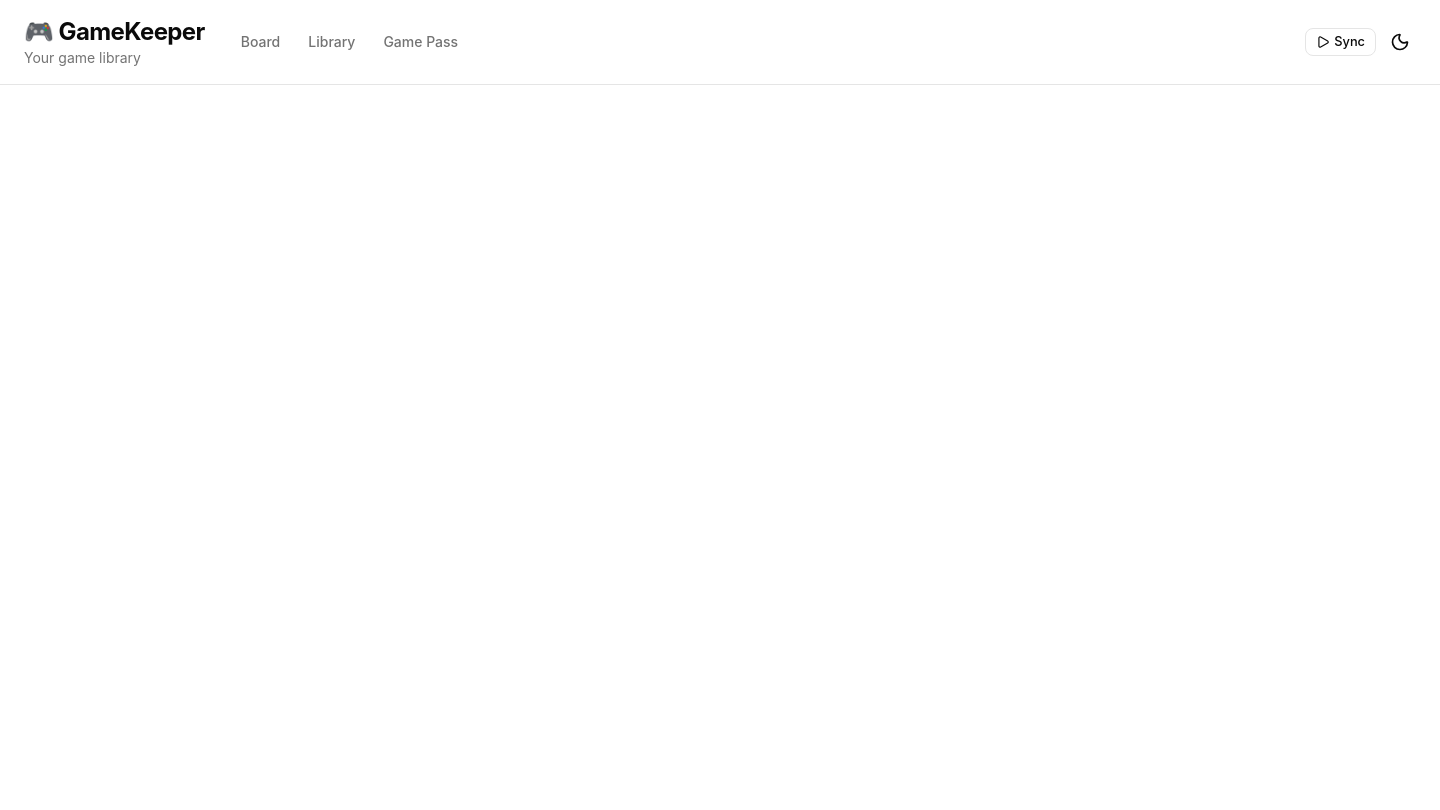
SyncPanel › shows "Sync already running" when the server responds 409
Click the button "Sync" at (1341,42), box [1305,28,1376,56]
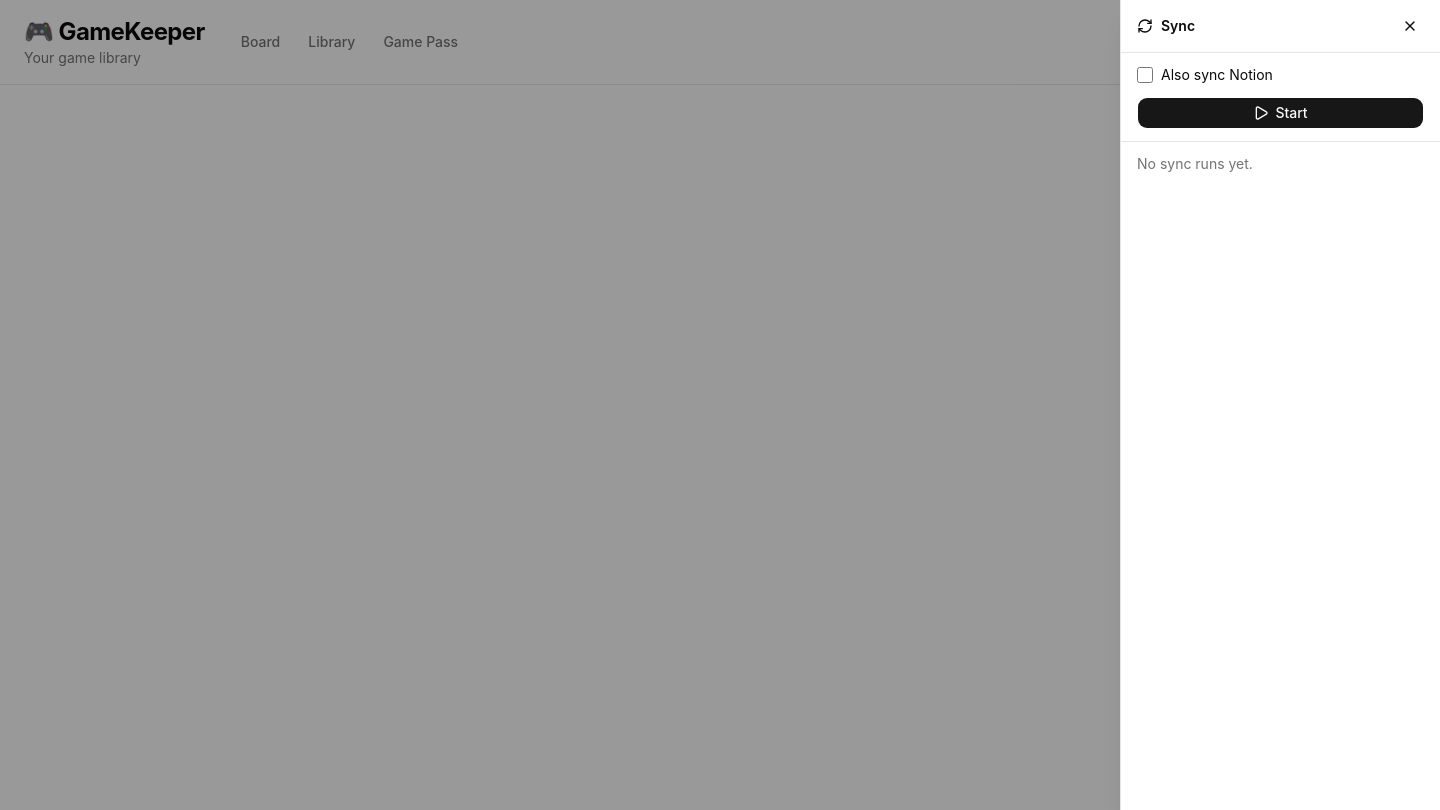
Click the button "Start" at (1280,113), box [1137,97,1424,129]
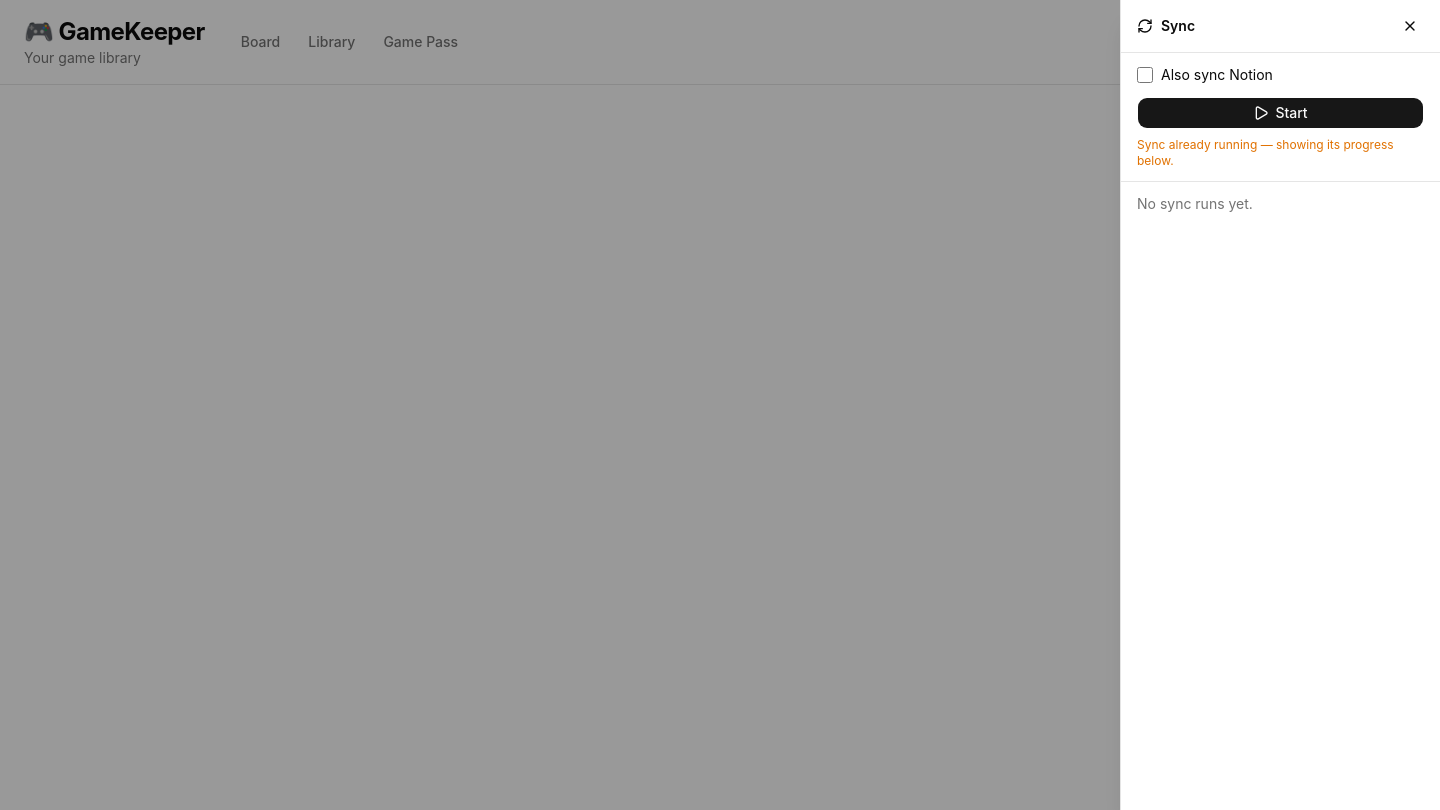
Expected: the button "Start" is enabled, [1137,97,1424,129]
Expected: the text "Sync already running — showing its progress below." is shown, [1137,137,1424,169]
